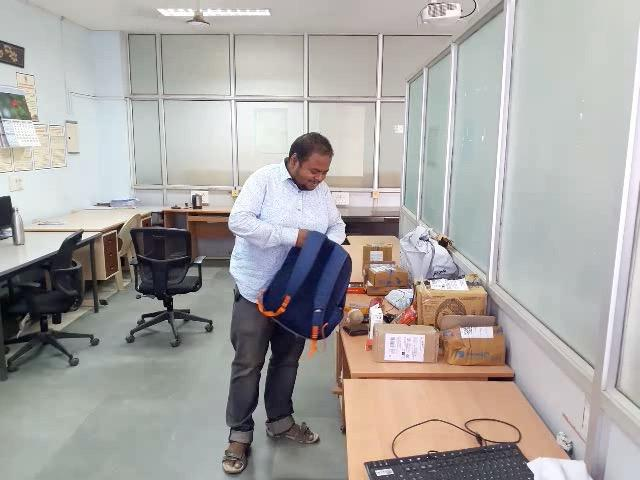shoplifting: (191, 204, 395, 371)
